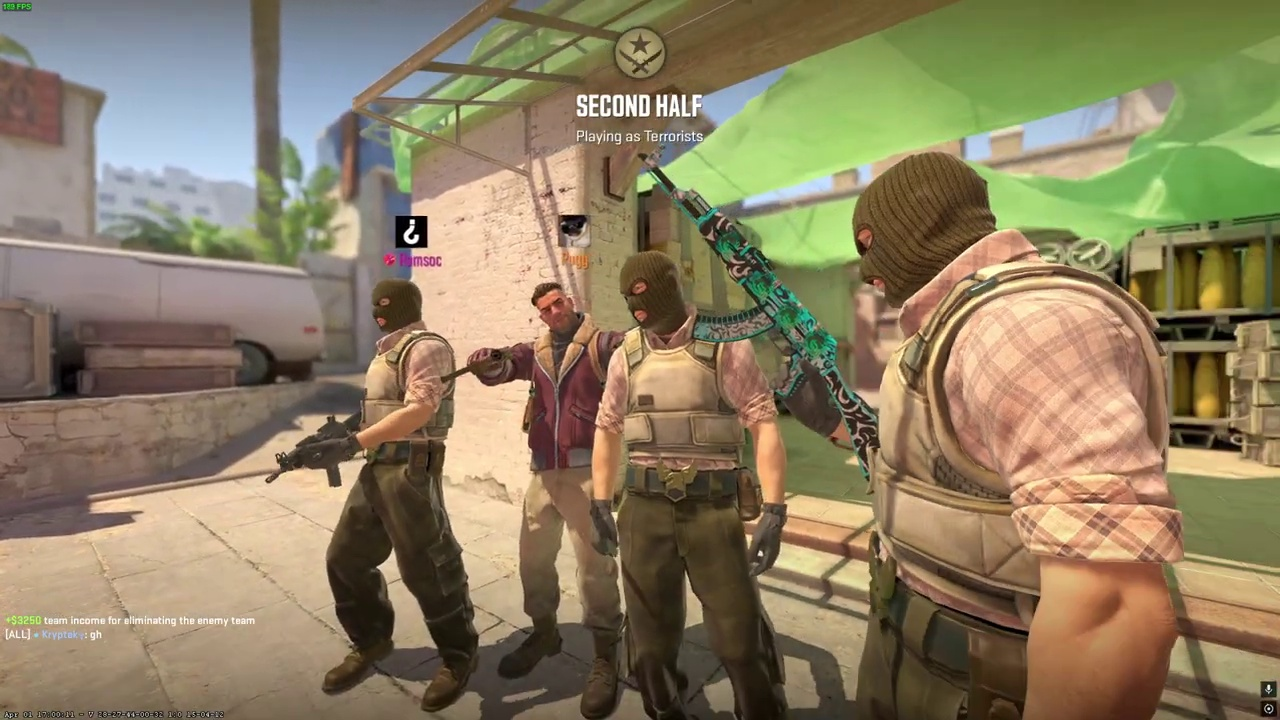Terrorist: (809, 151, 1182, 720), (590, 251, 787, 720), (302, 278, 480, 713), (494, 282, 624, 718)
